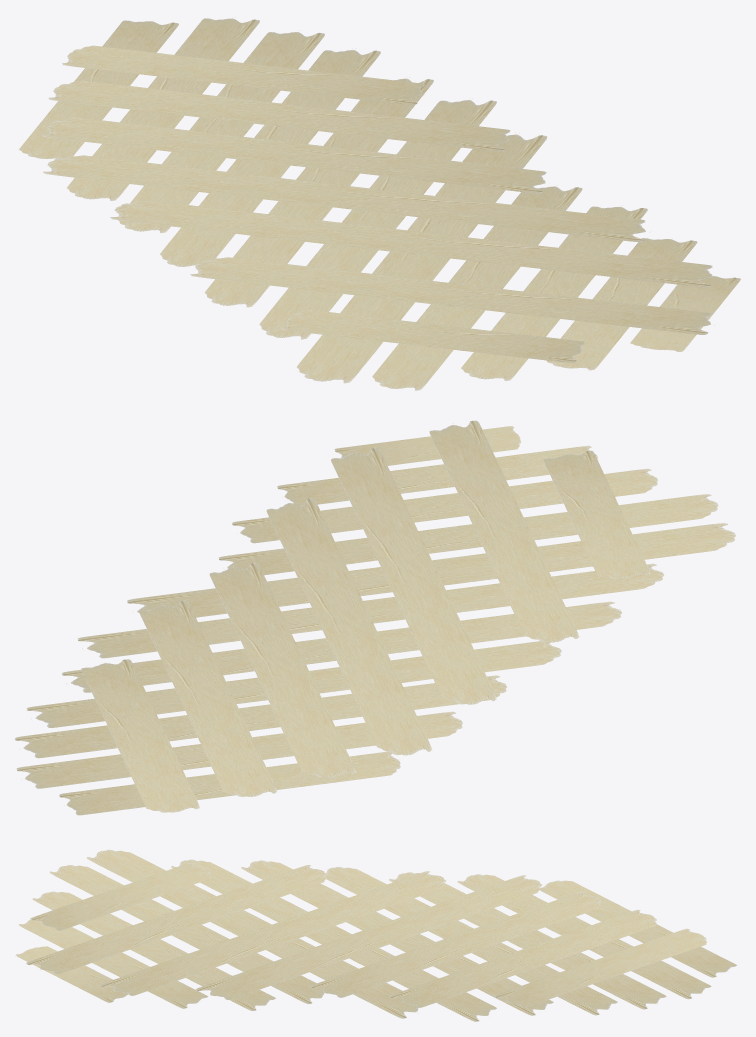
Rendered from Tape.FBX.
The picture shows the model from 3 angles, top to bottom: view 1: azimuth 30°, elevation 25°; view 2: azimuth 150°, elevation 25°; view 3: azimuth 270°, elevation 25°; orthographic projection. The views are drawn at different scales.
Visible parts, largest first — view 1: Tape015, Tape014, Tape016, Tape013, Tape012, Tape006, Tape011, Tape005, Tape007, Tape017, Tape003, Tape004 (+6 smaller); view 2: Tape014, Tape015, Tape016, Tape013, Tape012, Tape006, Tape011, Tape005, Tape017, Tape007, Tape003, Tape004 (+6 smaller); view 3: Tape014, Tape015, Tape016, Tape013, Tape012, Tape006, Tape011, Tape005, Tape007, Tape017, Tape003, Tape004 (+6 smaller).
Part boxes in pixels (bbox=[...]): Tape015: bbox=[110, 200, 718, 287]; Tape014: bbox=[43, 155, 650, 241]; Tape016: bbox=[190, 257, 714, 334]; Tape013: bbox=[42, 117, 546, 193]; Tape012: bbox=[48, 80, 511, 151]; Tape006: bbox=[297, 132, 547, 383]; Tape011: bbox=[62, 45, 424, 105]; Tape005: bbox=[259, 98, 496, 339]; Tape007: bbox=[372, 185, 582, 390]; Tape017: bbox=[281, 310, 584, 362]; Tape003: bbox=[160, 48, 380, 266]; Tape004: bbox=[204, 77, 433, 307]; Tape014: bbox=[266, 498, 432, 755]; Tape015: bbox=[331, 447, 496, 704]; Tape016: bbox=[429, 420, 579, 642]; Tape013: bbox=[209, 563, 356, 777]; Tape012: bbox=[139, 600, 277, 796]; Tape006: bbox=[127, 523, 735, 617]; Tape011: bbox=[81, 659, 199, 812]; Tape005: bbox=[77, 563, 664, 658]; Tape017: bbox=[543, 450, 650, 578]; Tape007: bbox=[218, 494, 718, 575]; Tape003: bbox=[26, 641, 561, 727]; Tape004: bbox=[61, 601, 622, 692]; Tape014: bbox=[195, 875, 542, 999]; Tape015: bbox=[99, 871, 445, 995]; Tape016: bbox=[26, 865, 327, 974]; Tape013: bbox=[309, 891, 601, 997]; Tape012: bbox=[389, 909, 656, 1007]; Tape006: bbox=[86, 849, 418, 1018]; Tape011: bbox=[494, 928, 706, 1007]; Tape005: bbox=[171, 859, 496, 1021]; Tape007: bbox=[49, 865, 324, 1004]; Tape017: bbox=[30, 862, 211, 930]; Tape003: bbox=[325, 867, 617, 1015]; Tape004: bbox=[241, 860, 553, 1015].
Bounding box in the file's own units: 6.16 × 0.5122 × 11.88.
Materials: 1 (1 with a texture image).
